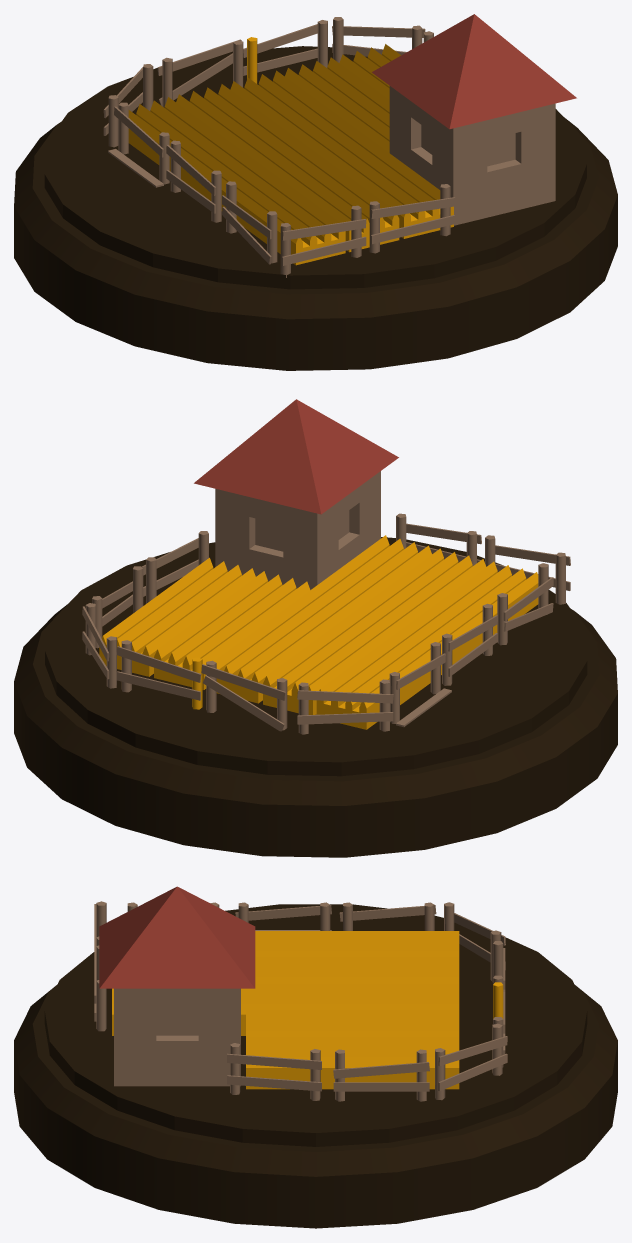
The model's file is Ferme (1).fbx.
The picture shows the model from 3 angles, top to bottom: view 1: azimuth 30°, elevation 25°; view 2: azimuth 150°, elevation 25°; view 3: azimuth 270°, elevation 25°; orthographic projection.
Parts seen in each view (by area): view 1: Object; view 2: Object; view 3: Object.
Boxes of the visible parts, <box> form: Object: <box>14,14,617,370</box>; Object: <box>14,399,617,857</box>; Object: <box>14,886,617,1228</box>.
Size of the model in its own units: 1.89 by 0.8924 by 1.89.
